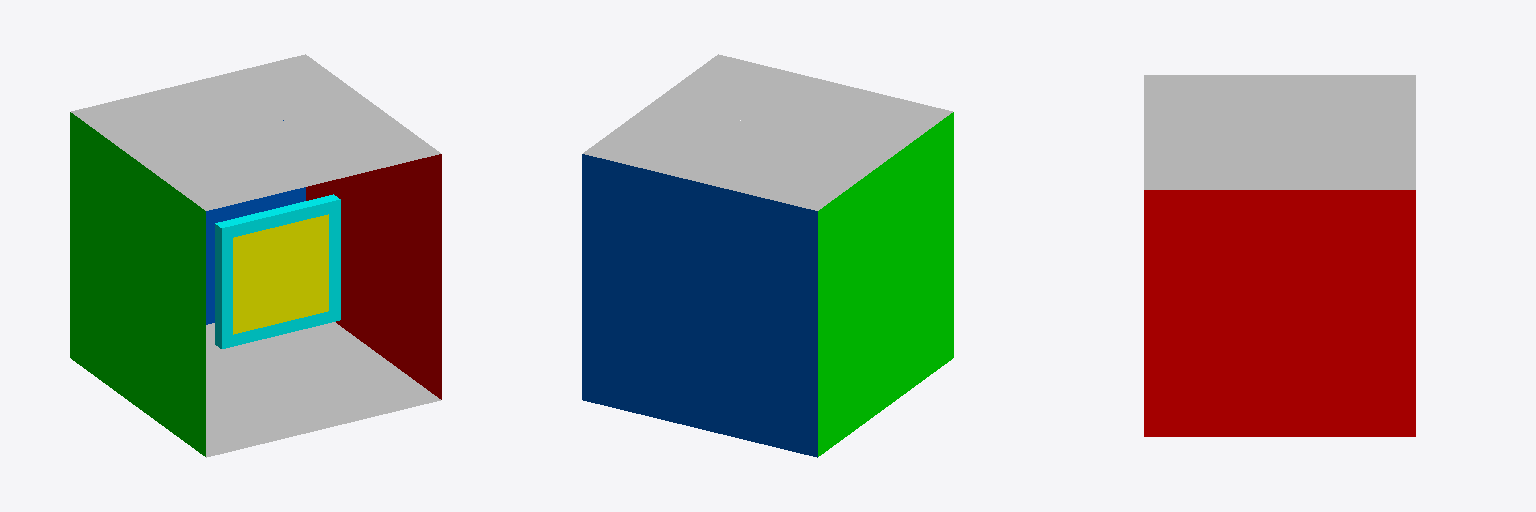
File: transparent_no_poles.obj
The picture shows the model from 3 angles: view 1: azimuth 30°, elevation 25°; view 2: azimuth 150°, elevation 25°; view 3: azimuth 270°, elevation 25°; orthographic projection.
Visible parts, largest first — view 1: Plane.001, Plane.004, Plane.002, Plane, Cube.001_Cube.009, Plane.003, Cube.001_Cube.003, Plane.005_Plane.006, Cube.001_Cube.001, Cube.001_Cube.004_Cube.001_Cube.005, Cube.001_Cube.002; view 2: Plane.003, Plane.001, Plane.004, Plane.005_Plane.006; view 3: Plane.002, Plane.004, Plane.005_Plane.006.
Boxes of the visible parts, x1,y1,x2,y2 form: Plane.001: [70, 112, 205, 456]; Plane.004: [71, 54, 440, 210]; Plane.002: [306, 154, 441, 399]; Plane: [206, 322, 440, 457]; Cube.001_Cube.009: [233, 214, 328, 334]; Plane.003: [206, 120, 305, 324]; Cube.001_Cube.003: [215, 194, 340, 239]; Plane.005_Plane.006: [212, 110, 300, 146]; Cube.001_Cube.001: [215, 236, 232, 336]; Cube.001_Cube.004_Cube.001_Cube.005: [215, 308, 340, 348]; Cube.001_Cube.002: [329, 211, 340, 310]; Plane.003: [582, 154, 817, 457]; Plane.001: [818, 112, 953, 456]; Plane.004: [583, 54, 952, 210]; Plane.005_Plane.006: [715, 116, 803, 152]; Plane.002: [1144, 190, 1415, 436]; Plane.004: [1144, 75, 1415, 189]; Plane.005_Plane.006: [1255, 121, 1320, 148].
Bounding box in the file's own units: 8.28 × 8.28 × 8.28.